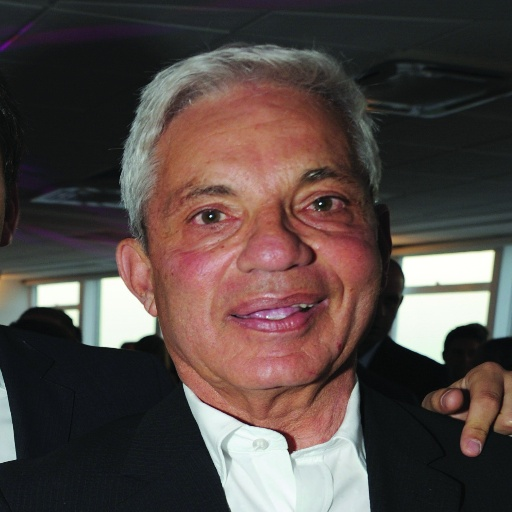hand: (408, 348, 508, 467)
